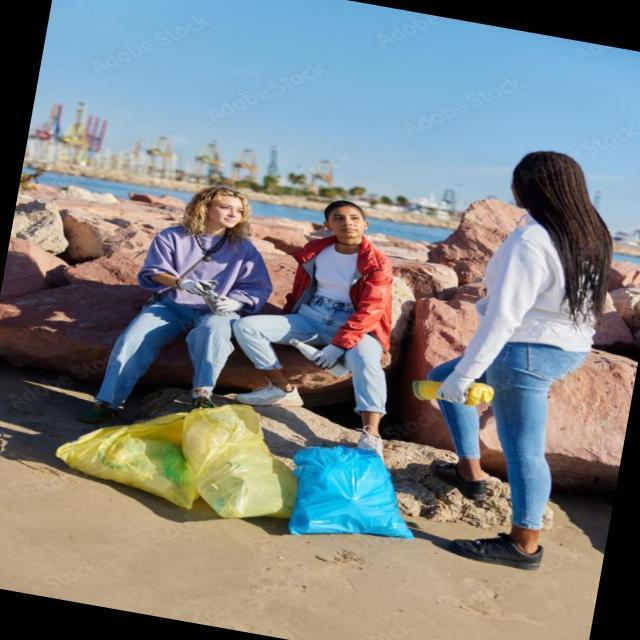Garbage_Bag: (274, 426, 424, 562)
